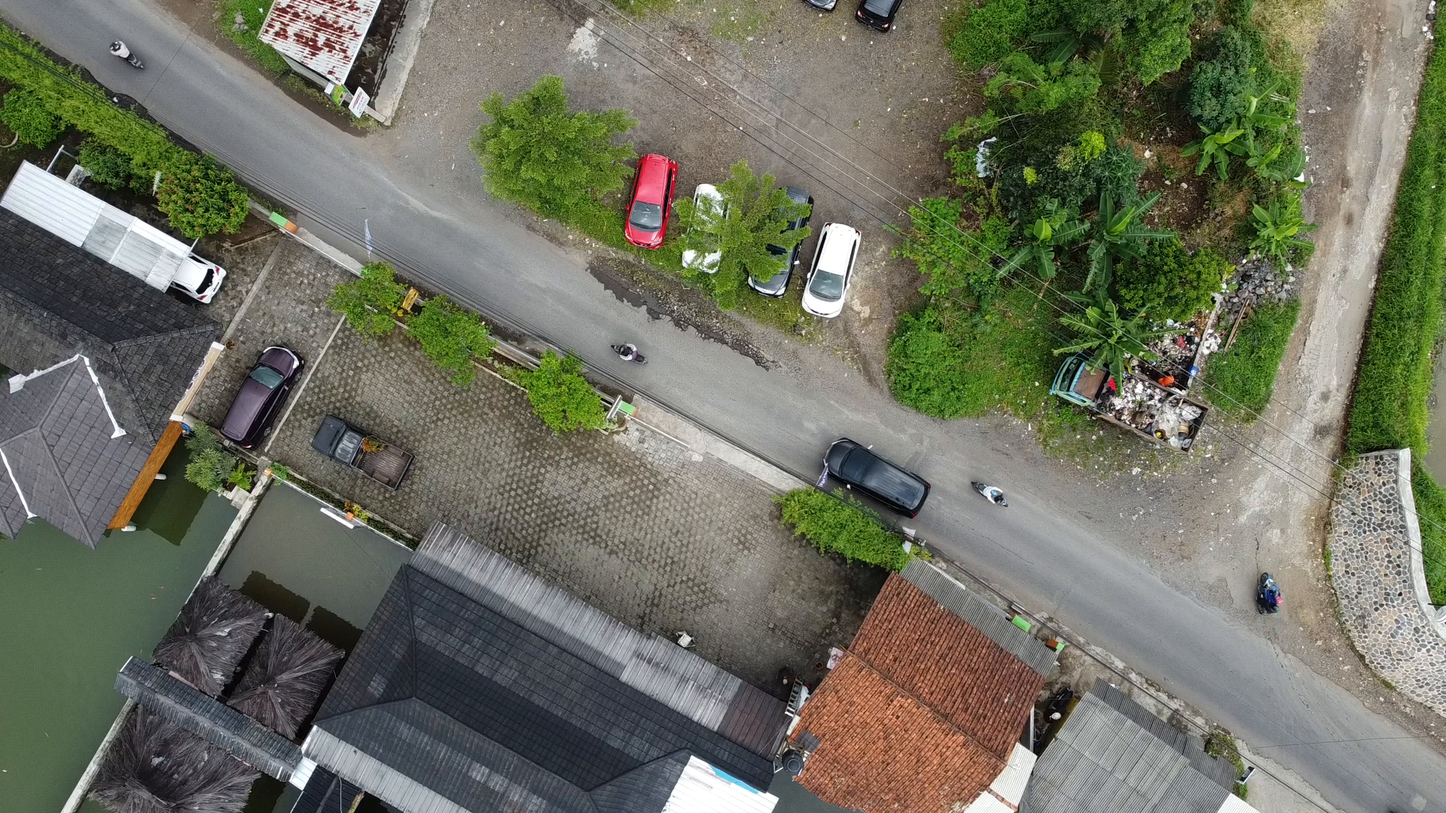mobil: (822, 424, 931, 530), (215, 341, 308, 452), (307, 407, 417, 492), (749, 171, 817, 307), (804, 208, 870, 327), (618, 146, 682, 254), (685, 163, 733, 296), (163, 245, 237, 313)
